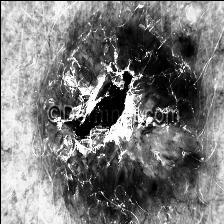Potentially Malignant Skin Tumors: (48, 21, 196, 106)
